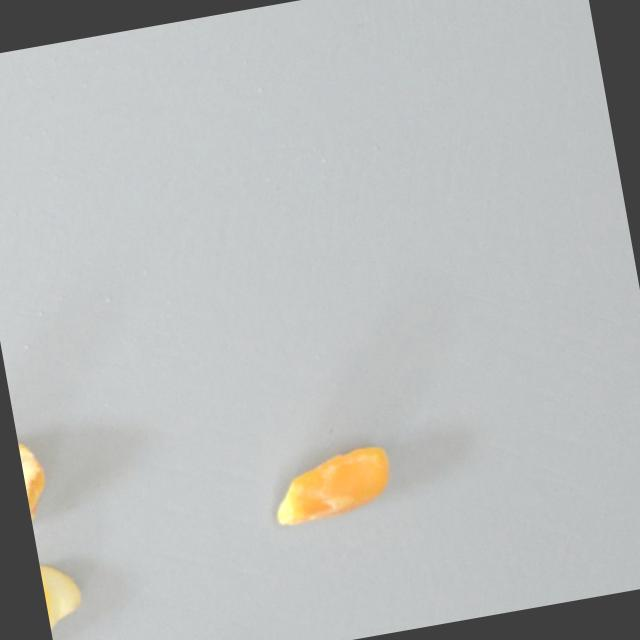pelicula: (259, 425, 402, 536), (14, 420, 61, 545), (38, 559, 92, 640)
